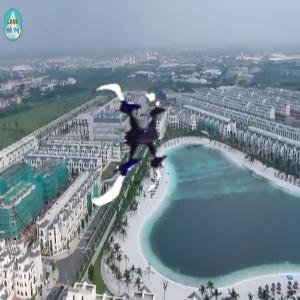drone: (69, 77, 192, 200)
